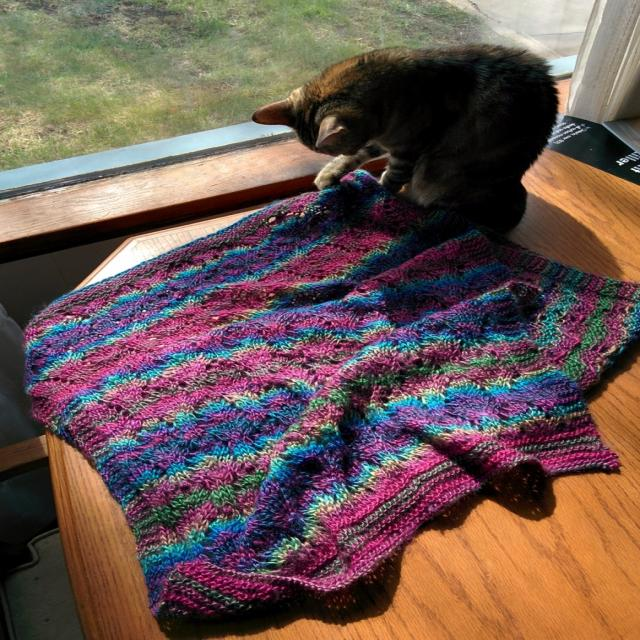Cat: (247, 39, 564, 206)
